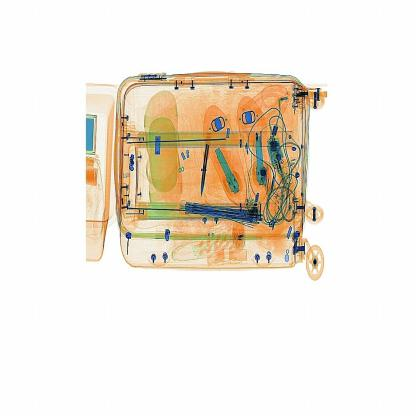gun: (194, 124, 218, 206)
